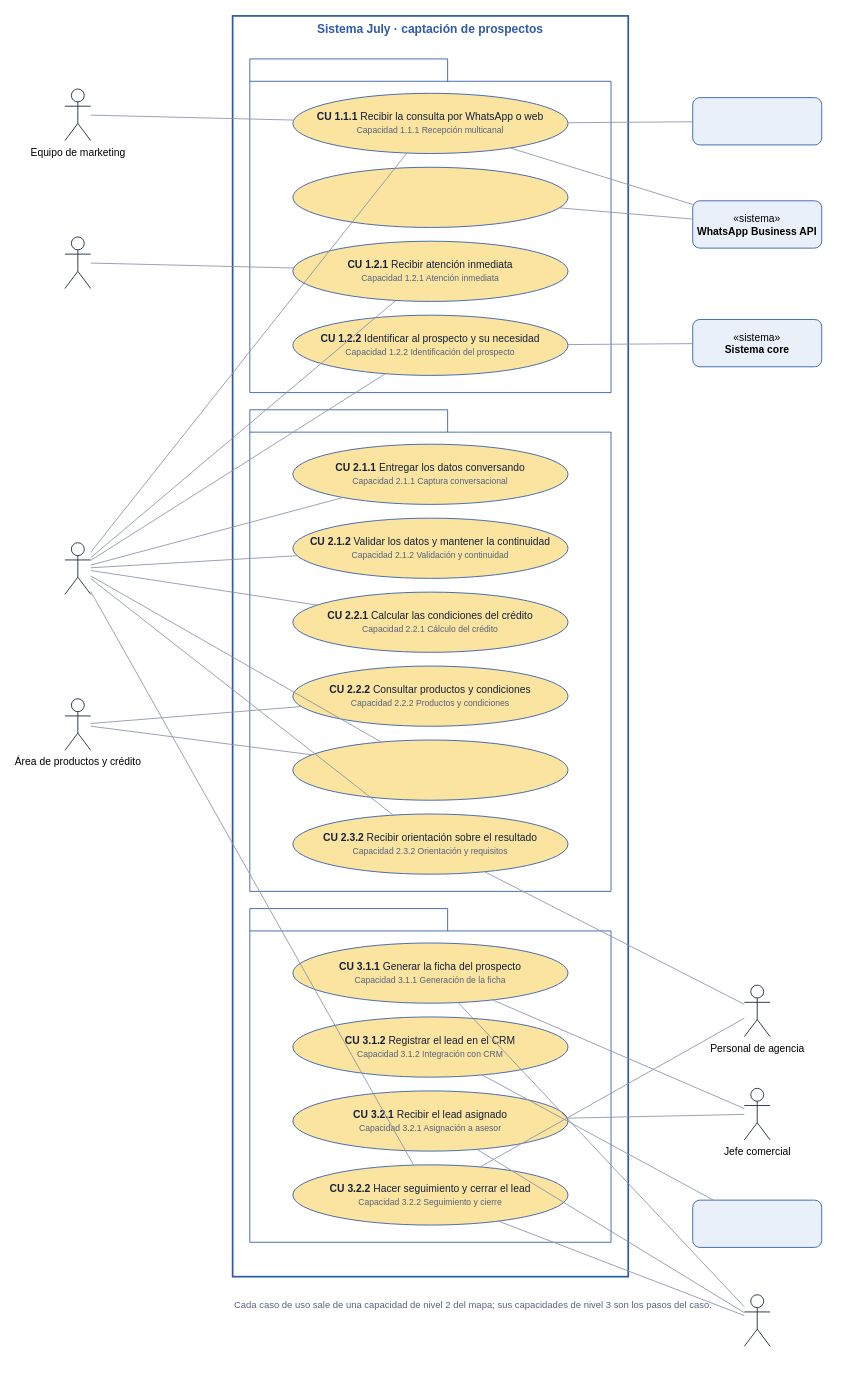
The diagram is 867 pixels wide and 1379 high, and some of its shapes have lost their labels. The box of each missing label's shape, as (x1, y1, x2, y2) in pixels:
Administrador del asistente: (64, 236, 91, 289)
Asesor comercial: (743, 1294, 770, 1346)
Atracción y primer contacto: (249, 58, 611, 393)
Captura, simulación y precalificación: (249, 409, 611, 891)
CU 1.1.2 Unificar los mensajes entrantes Capacidad 1.1.2 Unificación de mensajes: (292, 166, 568, 227)
CU 2.3.1 Evaluar al prospecto con reglas Capacidad 2.3.1 Evaluación por reglas: (292, 739, 568, 800)
Entrega, seguimiento y conversión: (249, 908, 611, 1242)
Prospecto: (64, 542, 91, 594)
«sistema» CRM de la cooperativa: (692, 1199, 822, 1247)
«sistema» Widget web: (692, 97, 822, 145)
